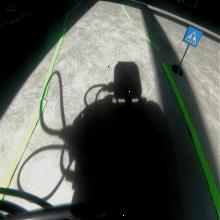crosswalk: (182, 24, 203, 48)
